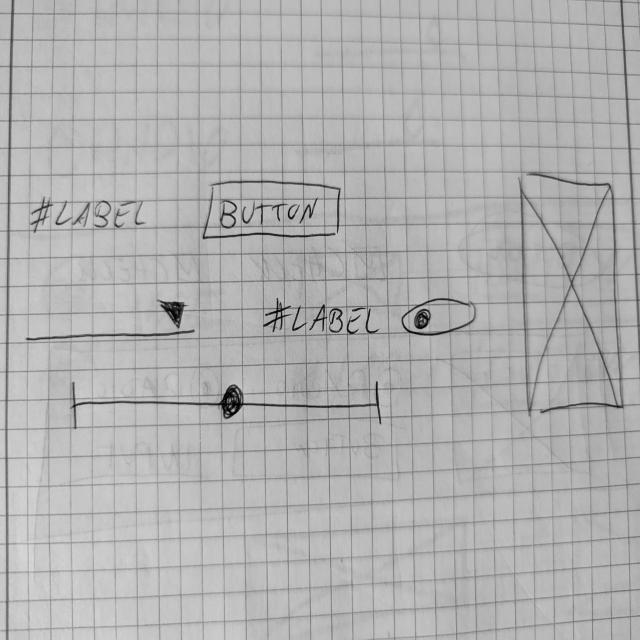button: (201, 178, 344, 243)
image: (516, 170, 626, 418)
label: (26, 193, 151, 234), (260, 296, 380, 338)
select: (69, 378, 385, 432), (24, 298, 200, 345)
